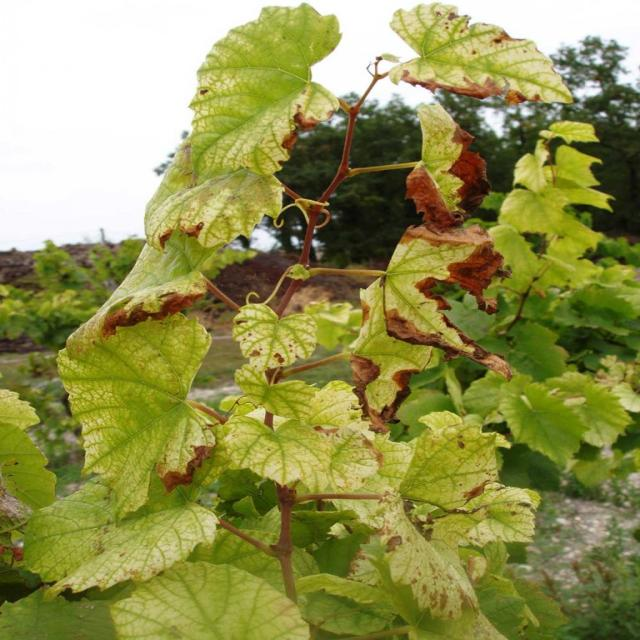Chlorosis: (10, 5, 640, 640)
